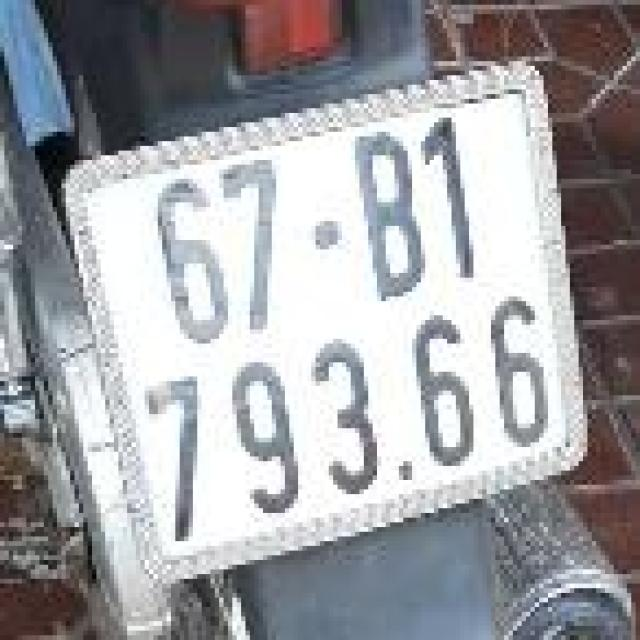1: (412, 105, 503, 295)
3: (299, 326, 395, 507)
6: (146, 163, 241, 360), (398, 297, 494, 487), (478, 281, 565, 465)
7: (213, 147, 311, 349), (130, 362, 226, 556)
9: (221, 348, 331, 530)
B: (345, 123, 445, 322)
